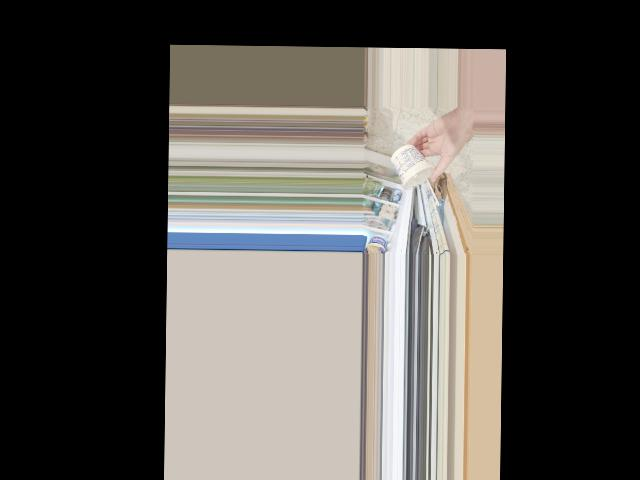cotage: (395, 142, 439, 187)
